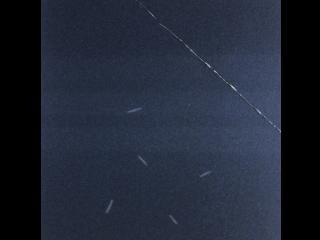crack: (136, 0, 281, 133)
scratch: (101, 195, 119, 219), (123, 103, 145, 117), (165, 210, 181, 229), (196, 167, 215, 180), (136, 153, 150, 169)
